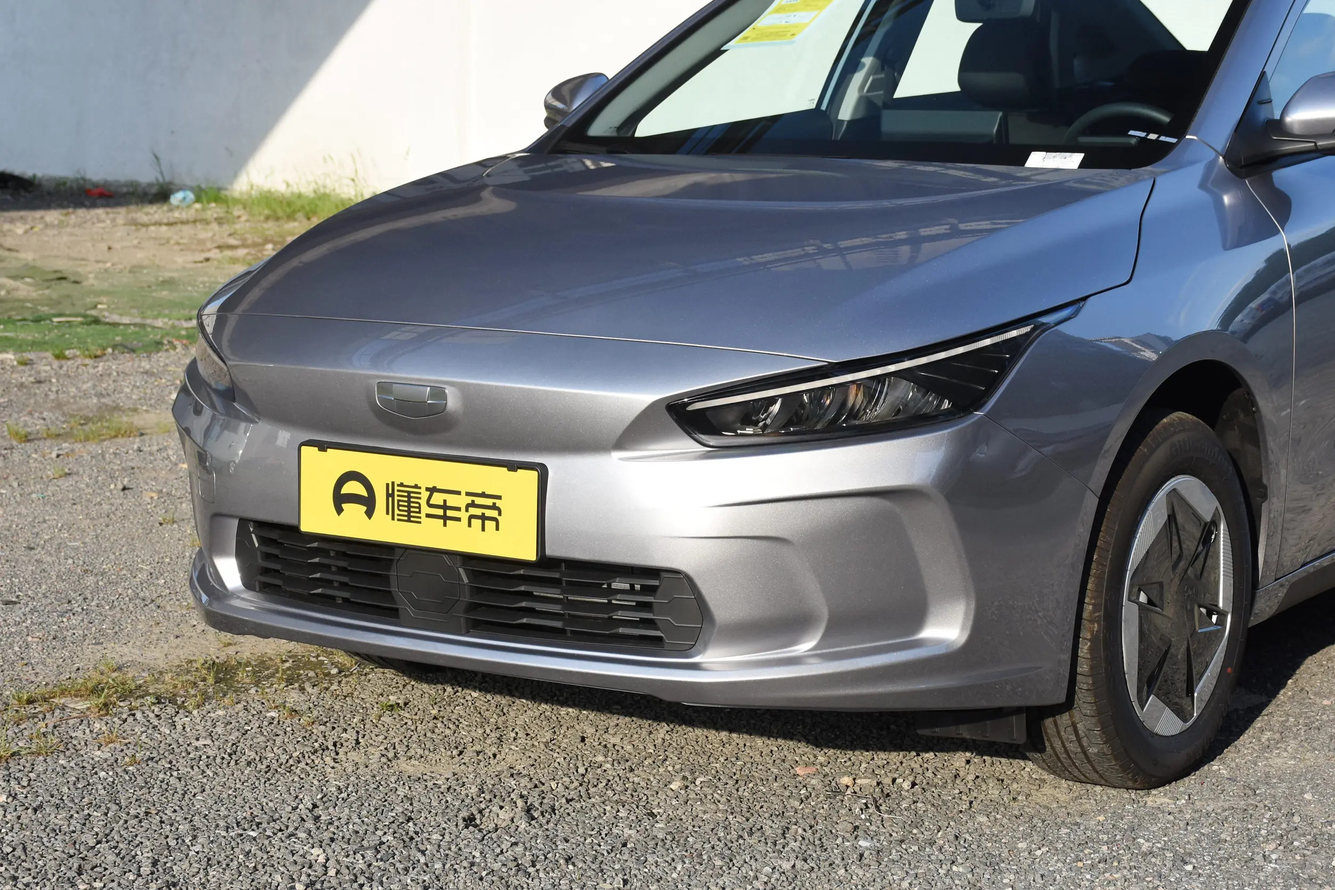GEOMETRY: (376, 383, 447, 418)
